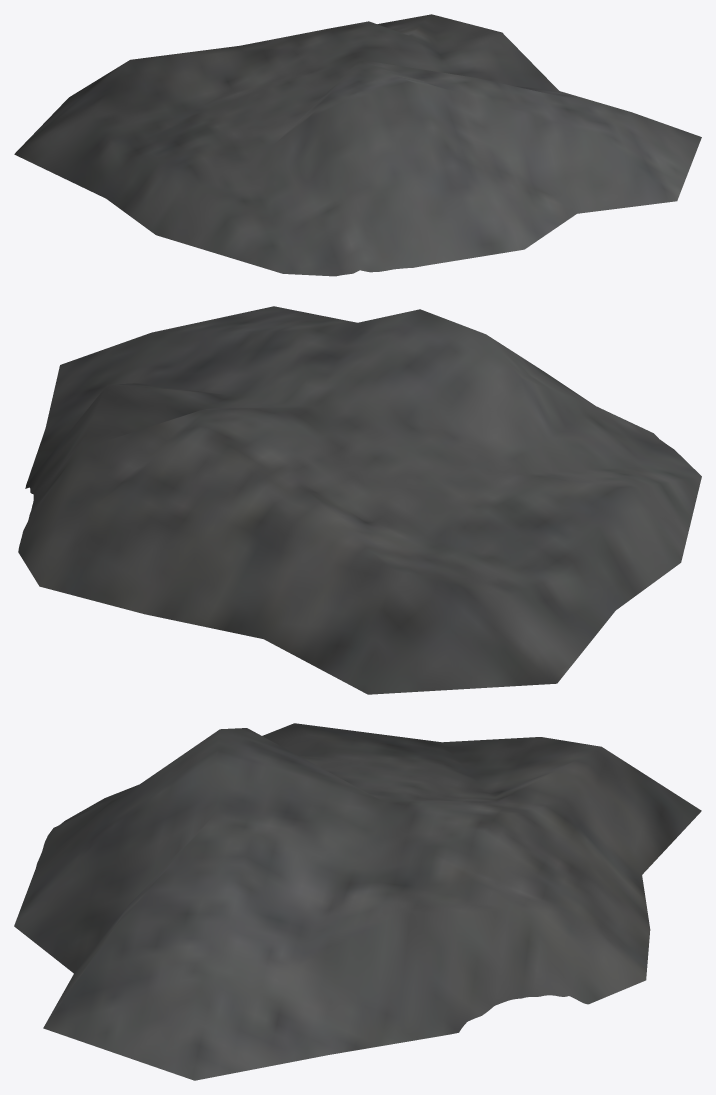
The model's file is charcoal_powder 1.FBX.
3 views of the same model, one above another, from view 1: azimuth 30°, elevation 25°; view 2: azimuth 150°, elevation 25°; view 3: azimuth 270°, elevation 25° (orthographic). The views are drawn at different scales.
Visible parts, largest first — view 1: charcoal_powder; view 2: charcoal_powder; view 3: charcoal_powder.
Boxes of the visible parts, x1=… form: charcoal_powder: x1=14, y1=14, x2=701, y2=276; charcoal_powder: x1=18, y1=306, x2=701, y2=694; charcoal_powder: x1=14, y1=723, x2=701, y2=1080.
Size of the model in its own units: 24.75 by 5.24 by 21.68.
